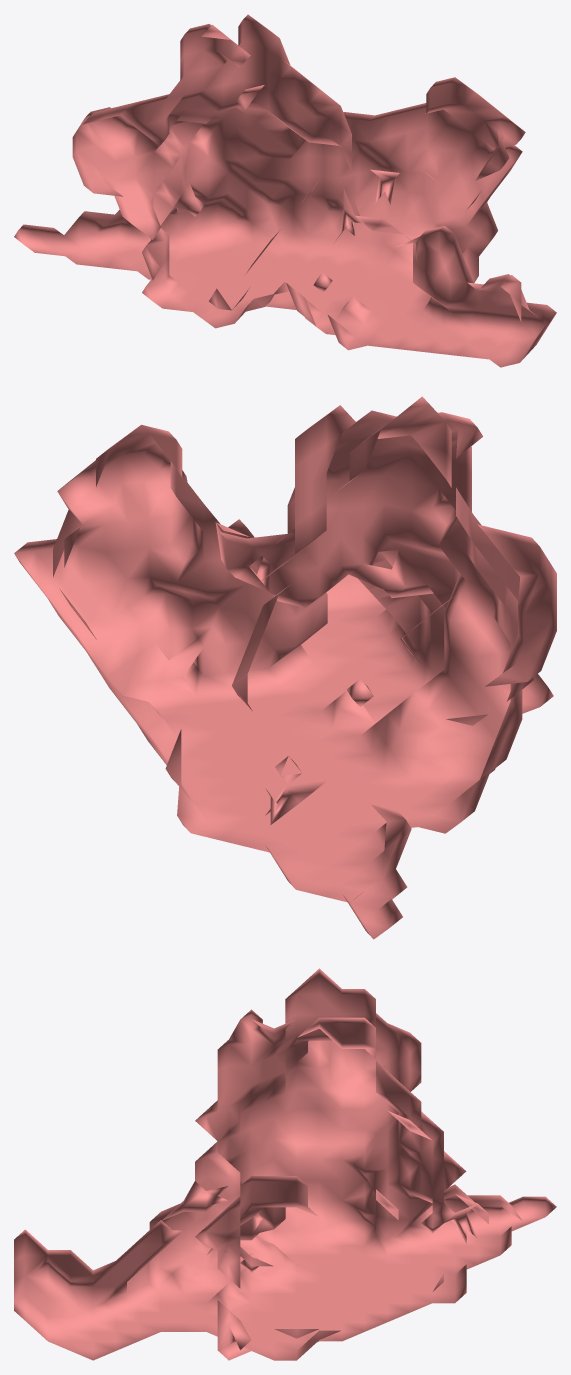
The model's file is osteocyte_6.glb.
The picture shows the model from 3 angles, top to bottom: view 1: azimuth 30°, elevation 25°; view 2: azimuth 150°, elevation 25°; view 3: azimuth 270°, elevation 25°; orthographic projection. The views are drawn at different scales.
Parts seen in each view (by area): view 1: osteocyte_6; view 2: osteocyte_6; view 3: osteocyte_6.
Boxes of the visible parts, left/top/right/bottom form: osteocyte_6: left=14, top=14, right=556, bottom=367; osteocyte_6: left=14, top=396, right=556, bottom=939; osteocyte_6: left=14, top=968, right=556, bottom=1360.
Size of the model in its own units: 10.11 by 6.74 by 11.56.
